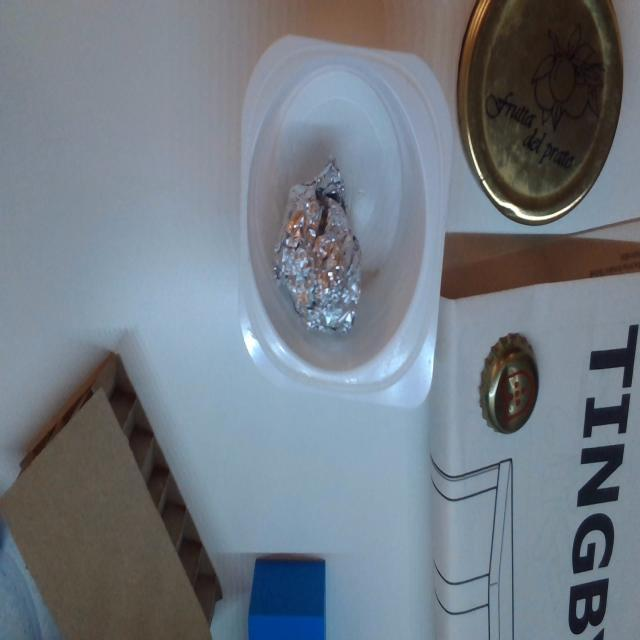Cardboard: (4, 354, 224, 640)
Paper: (433, 212, 640, 640)
